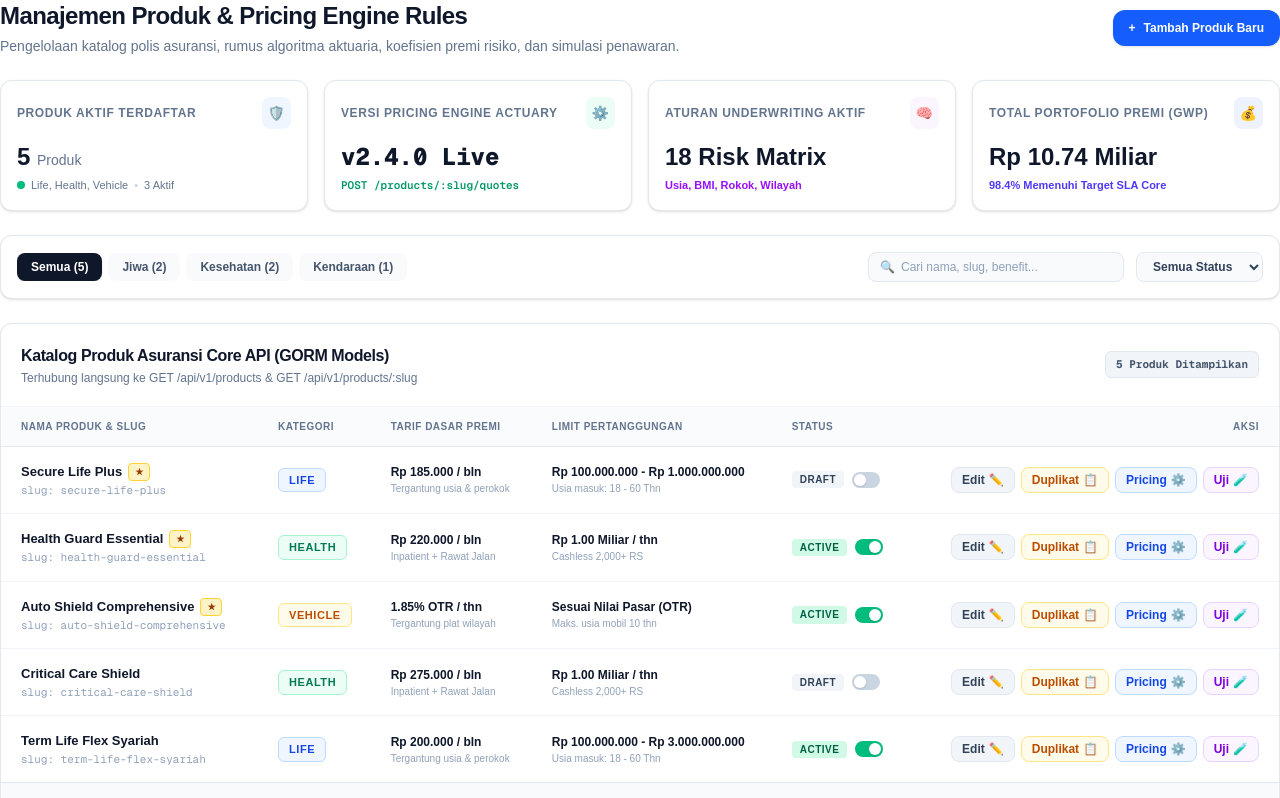
Scenario: ProductsPage & ProductManagementWorkbench › should open edit modal and successfully update product with re-index
The image size is (1280, 798).
Click the button with aria-label "Edit Konfigurasi": [983, 480] box [951,467,1015,493]
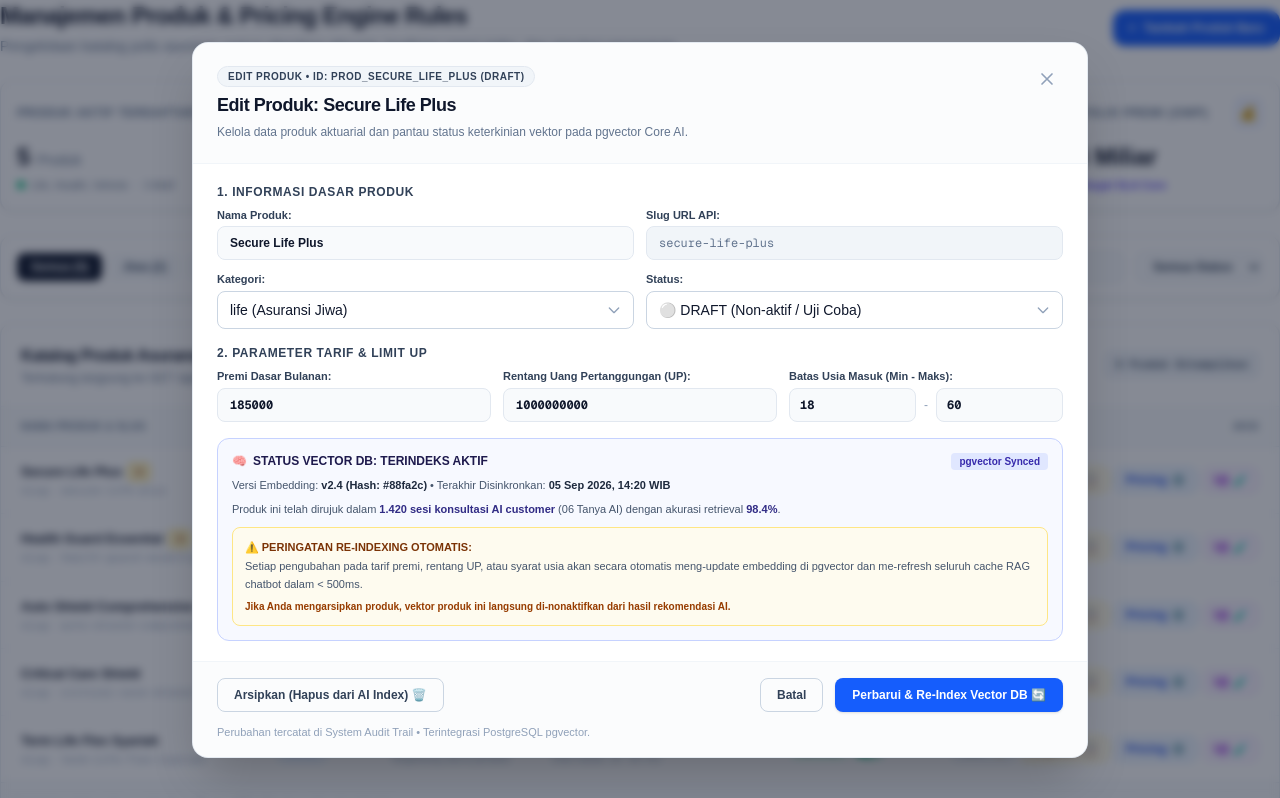
expect the heading "Edit Produk: Secure Life Plus" is shown: met, box [217,95,456,115]
expect the text "STATUS VECTOR DB: TERINDEKS AKTIF" is shown: met, box [253,453,488,469]
Click the button "Perbarui & Re-Index Vector DB 🔄": [949, 695] box [835,678,1063,712]
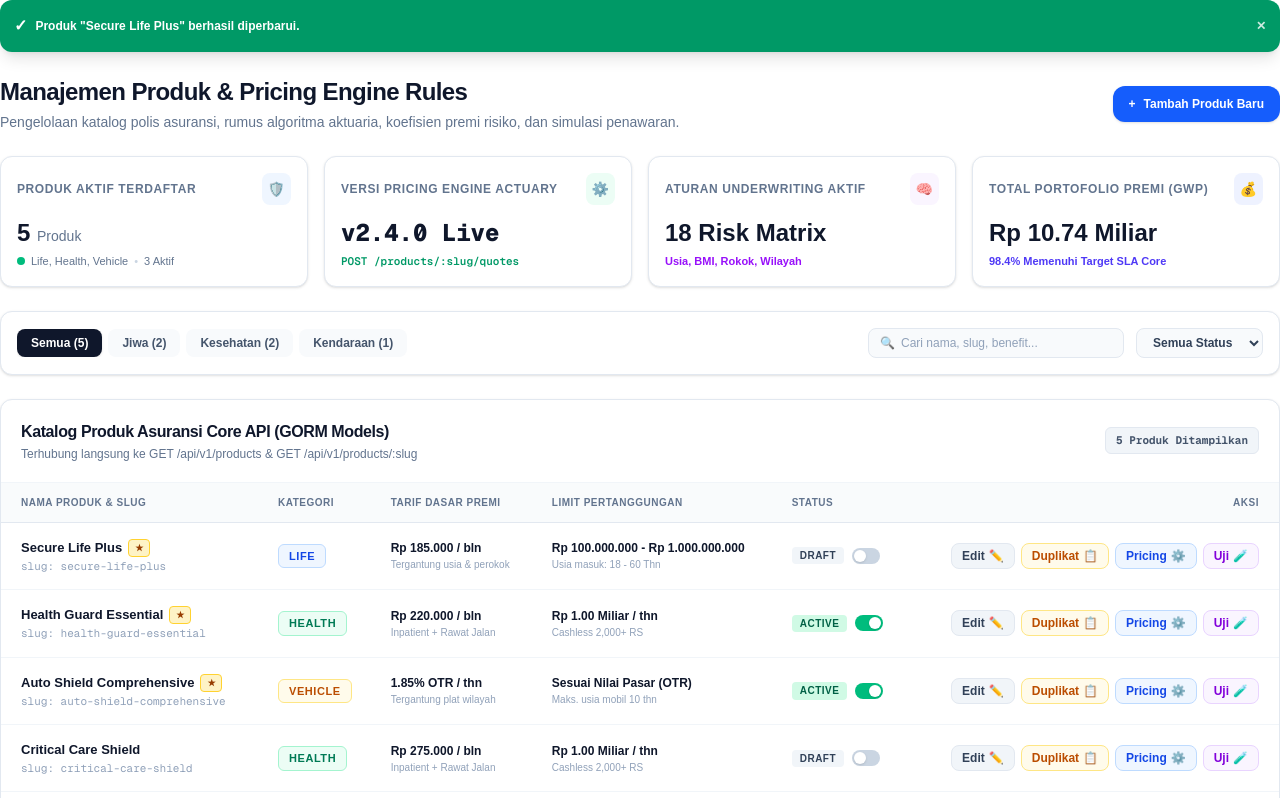
expect the text "Produk \"Secure Life Plus\" berhasil diperbarui." is shown: met, box [35,18,300,34]
